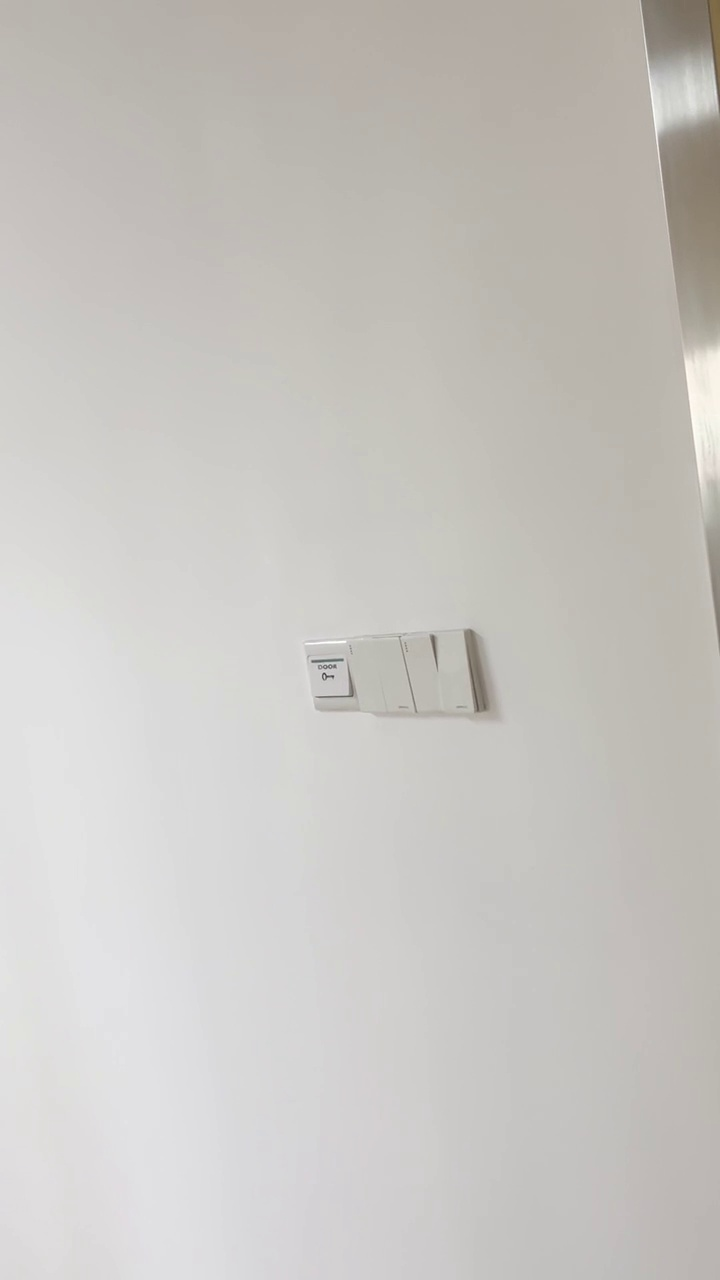button: (405, 630, 490, 713), (346, 636, 419, 714)
